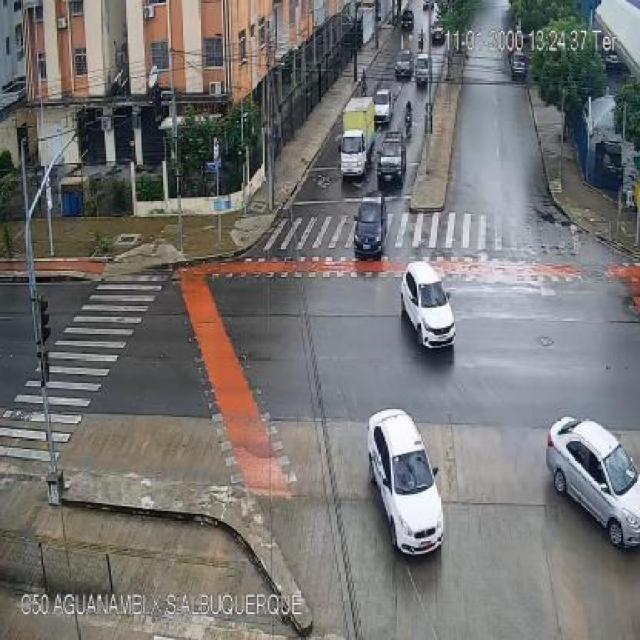Car: (358, 397, 458, 587), (536, 409, 637, 571), (394, 259, 468, 358), (345, 194, 393, 258), (371, 130, 414, 192), (502, 52, 537, 88), (369, 88, 396, 125), (412, 56, 437, 94), (392, 51, 416, 83)
Cycle: (400, 94, 419, 138)
Truck: (328, 96, 377, 182)
